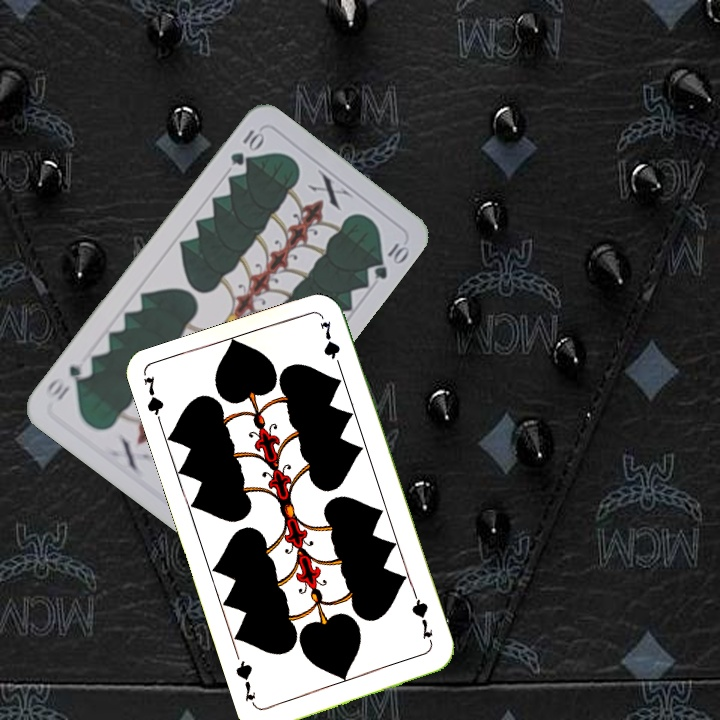G10: (226, 125, 266, 168)
G7: (407, 591, 436, 649), (139, 372, 166, 432)
